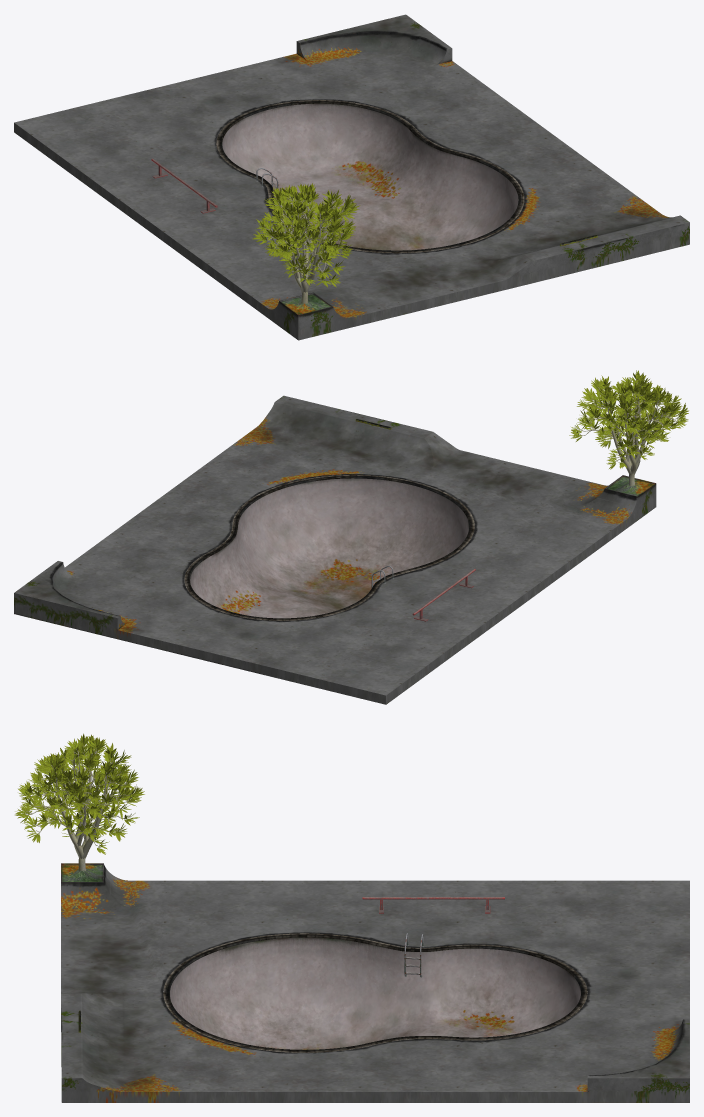
File: BackyardPool.glb
The picture shows the model from 3 angles, top to bottom: view 1: azimuth 30°, elevation 25°; view 2: azimuth 150°, elevation 25°; view 3: azimuth 270°, elevation 25°; orthographic projection. The views are drawn at different scales.
Visible parts, largest first — view 1: Object_10, Object_8, Object_6, Object_4; view 2: Object_10, Object_8, Object_6, Object_4; view 3: Object_10, Object_8, Object_6, Object_4.
Part boxes in pixels (bbox=[...]): Object_10: bbox=[14, 14, 689, 340]; Object_8: bbox=[216, 100, 524, 253]; Object_6: bbox=[252, 183, 360, 287]; Object_4: bbox=[264, 192, 349, 303]; Object_10: bbox=[14, 395, 656, 704]; Object_8: bbox=[184, 475, 474, 620]; Object_6: bbox=[569, 370, 688, 469]; Object_4: bbox=[579, 379, 680, 485]; Object_10: bbox=[61, 863, 689, 1102]; Object_8: bbox=[163, 933, 587, 1052]; Object_6: bbox=[15, 733, 144, 854]; Object_4: bbox=[25, 745, 131, 870].
Bounding box in the file's own units: 5.26 × 2.41 × 6.49.
Materials: 7 (7 with a texture image).
